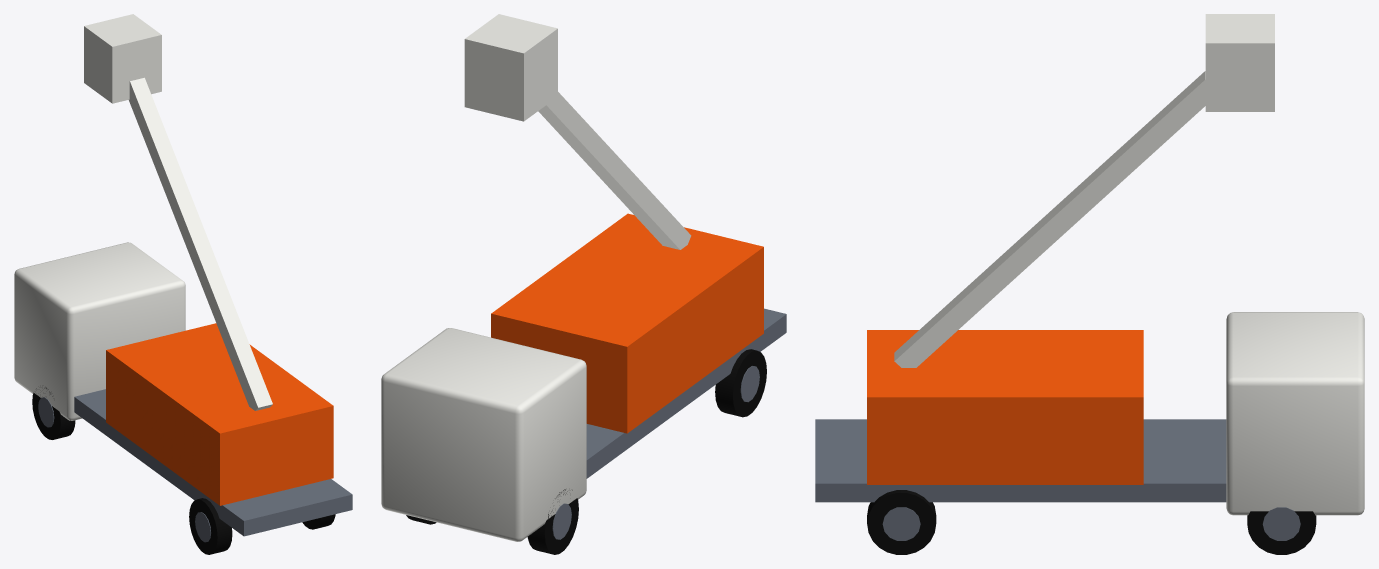
Rendered from airport.airside.deicer.glb.
The picture shows the model from 3 angles, left to right: view 1: azimuth 30°, elevation 25°; view 2: azimuth 150°, elevation 25°; view 3: azimuth 270°, elevation 25°; orthographic projection. The views are drawn at different scales.
Visible parts, largest first — view 1: main__paint_white, main__hivis_orange, main__steel_painted, main__rubber; view 2: main__paint_white, main__hivis_orange, main__steel_painted, main__rubber; view 3: main__paint_white, main__hivis_orange, main__steel_painted, main__rubber.
Boxes of the visible parts, <box> form: main__paint_white: <box>14,14,272,420</box>; main__hivis_orange: <box>106,323,333,505</box>; main__steel_painted: <box>38,389,352,542</box>; main__rubber: <box>32,387,335,554</box>; main__paint_white: <box>381,14,691,541</box>; main__hivis_orange: <box>491,213,763,433</box>; main__steel_painted: <box>552,308,786,539</box>; main__rubber: <box>406,349,766,554</box>; main__paint_white: <box>894,14,1364,515</box>; main__hivis_orange: <box>867,330,1143,484</box>; main__steel_painted: <box>815,419,1300,540</box>; main__rubber: <box>867,490,1316,554</box>.
Bounding box in the file's own units: 2.42 × 7.84 × 7.95.
